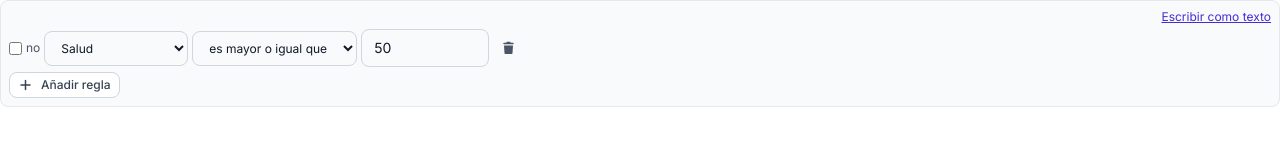
Test: CondicionBuilderComponent (modo texto) › por defecto se edita con el editor visual y se puede pasar a texto
Step 1. Click the button "Escribir como texto" → (1216, 17), box x1=1162 y1=9 x2=1271 y2=25
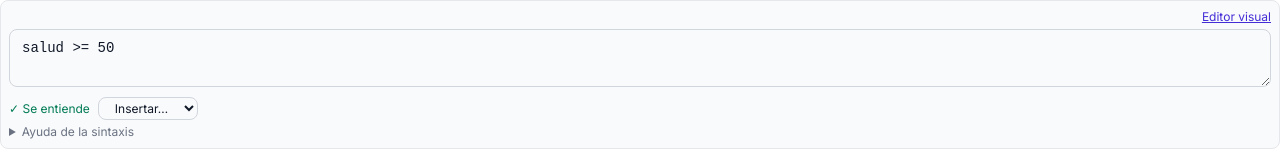
Check: the text box named "Condición" holds "salud >= 50", box x1=9 y1=29 x2=1271 y2=87
Check: the button "Editor visual" is shown, box x1=1202 y1=9 x2=1271 y2=25
